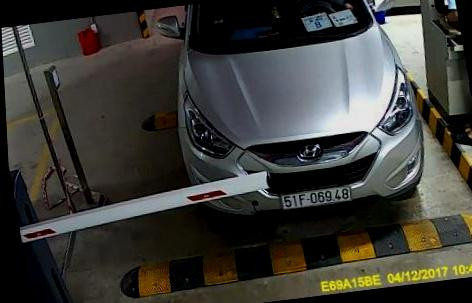License_Plate: (277, 177, 354, 214)
